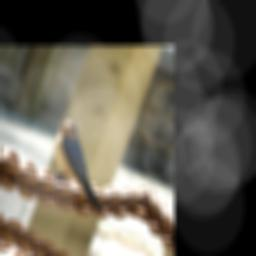Swallow: (29, 117, 136, 243)
